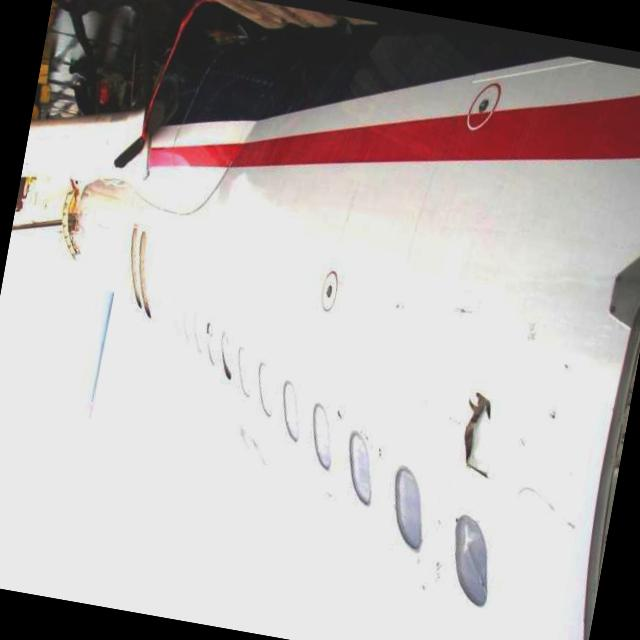crack: (449, 386, 508, 484)
